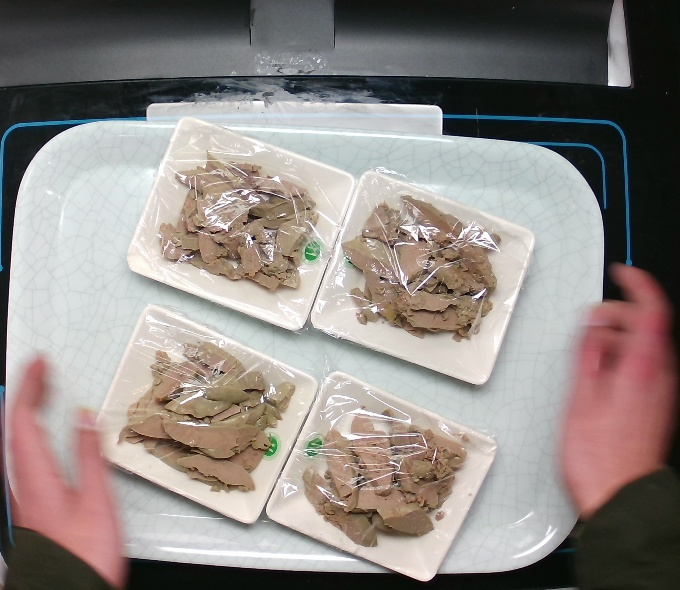wcq-EGan: (117, 335, 293, 498), (163, 152, 328, 297), (345, 193, 498, 346), (304, 403, 460, 552)
